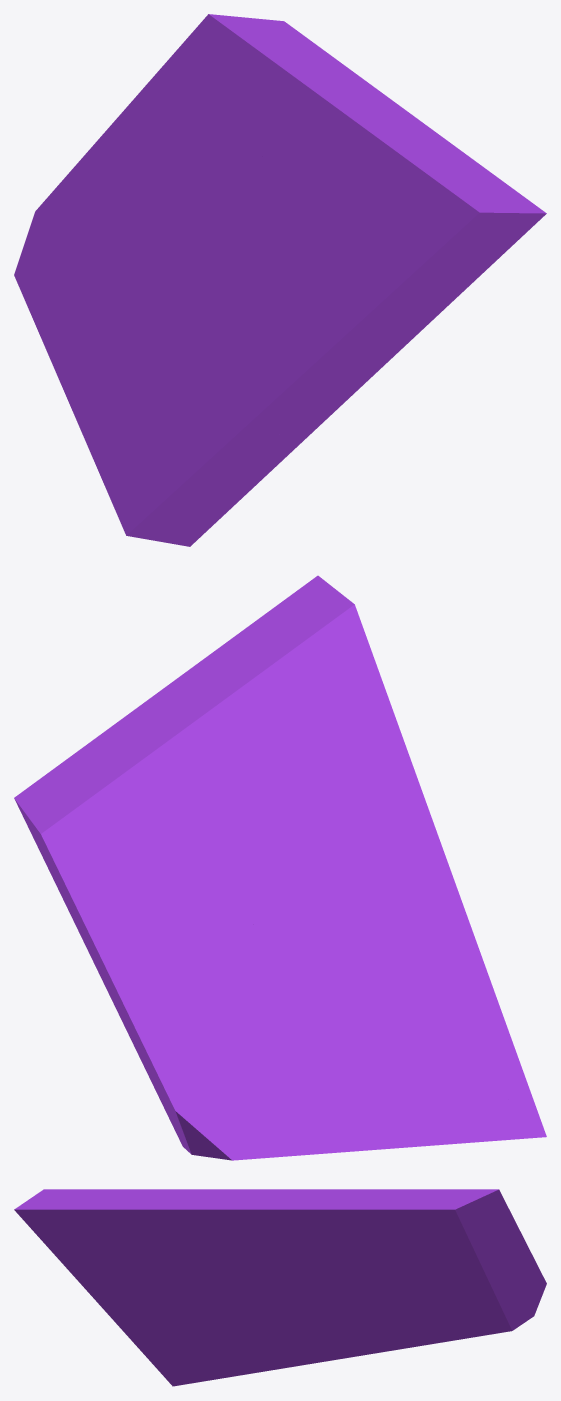
File: Window_117_2_chunks.fbx
The picture shows the model from 3 angles, top to bottom: view 1: azimuth 30°, elevation 25°; view 2: azimuth 150°, elevation 25°; view 3: azimuth 270°, elevation 25°; orthographic projection. The views are drawn at different scales.
Visible parts, largest first — view 1: Window_117_2_9, Window_117_2_10, Window_117_2_4, Window_117_2_8, Window_117_2_5, Window_117_2_3, Window_117_2_0, Window_117_2_11, Window_117_2_14, Window_117_2_15, Window_117_2_6, Window_117_2_1 (+1 smaller); view 2: Window_117_2_9, Window_117_2_10, Window_117_2_4, Window_117_2_8, Window_117_2_5, Window_117_2_3, Window_117_2_14, Window_117_2_15, Window_117_2_6, Window_117_2_1, Window_117_2_12, Window_117_2_0 (+2 smaller); view 3: Window_117_2_0, Window_117_2_3, Window_117_2_11, Window_117_2_4, Window_117_2_7, Window_117_2_14, Window_117_2_2, Window_117_2_15, Window_117_2_13, Window_117_2_5, Window_117_2_10, Window_117_2_1 (+2 smaller).
Boxes of the visible parts, x1,y1,x2,y2 form: Window_117_2_9: [186, 210, 484, 478]; Window_117_2_10: [164, 173, 293, 471]; Window_117_2_4: [69, 14, 285, 203]; Window_117_2_8: [19, 173, 181, 333]; Window_117_2_5: [83, 271, 178, 536]; Window_117_2_3: [226, 23, 406, 161]; Window_117_2_0: [134, 401, 343, 546]; Window_117_2_11: [299, 200, 546, 424]; Window_117_2_14: [362, 141, 528, 234]; Window_117_2_15: [259, 106, 448, 186]; Window_117_2_6: [14, 258, 104, 435]; Window_117_2_1: [149, 136, 271, 239]; Window_117_2_9: [318, 602, 512, 1043]; Window_117_2_10: [225, 830, 505, 1043]; Window_117_2_4: [14, 793, 203, 1064]; Window_117_2_8: [147, 955, 329, 1148]; Window_117_2_5: [294, 971, 546, 1145]; Window_117_2_3: [17, 694, 218, 862]; Window_117_2_14: [204, 591, 351, 746]; Window_117_2_15: [156, 658, 281, 839]; Window_117_2_6: [207, 1080, 426, 1160]; Window_117_2_1: [174, 821, 263, 984]; Window_117_2_12: [225, 726, 330, 839]; Window_117_2_0: [423, 1039, 541, 1121]; Window_117_2_0: [104, 1269, 369, 1386]; Window_117_2_3: [249, 1189, 450, 1268]; Window_117_2_11: [14, 1191, 228, 1310]; Window_117_2_4: [405, 1189, 537, 1293]; Window_117_2_7: [351, 1278, 541, 1345]; Window_117_2_14: [43, 1189, 191, 1250]; Window_117_2_2: [338, 1259, 509, 1303]; Window_117_2_15: [179, 1189, 290, 1251]; Window_117_2_13: [167, 1232, 299, 1271]; Window_117_2_5: [272, 1314, 373, 1370]; Window_117_2_10: [217, 1261, 307, 1287]; Window_117_2_1: [306, 1267, 350, 1283].
Size of the model in its own units: 549 by 575 by 977.
